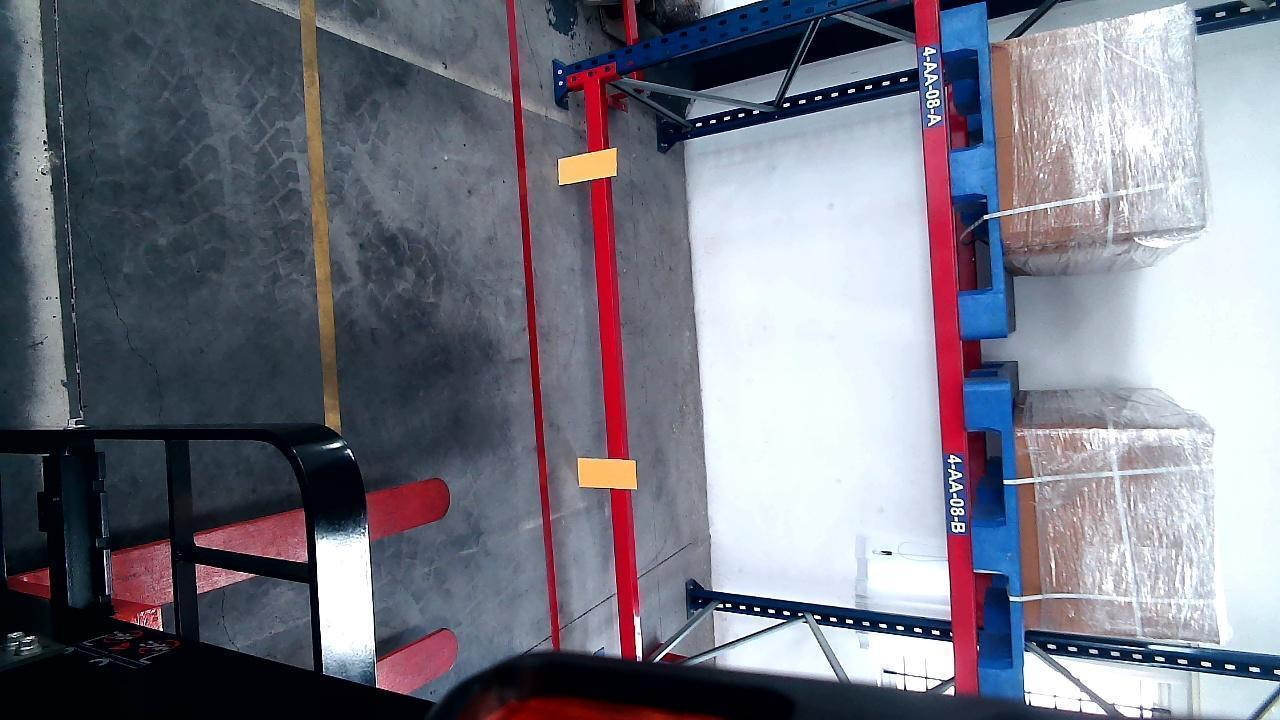yellow_line: (303, 0, 342, 437)
